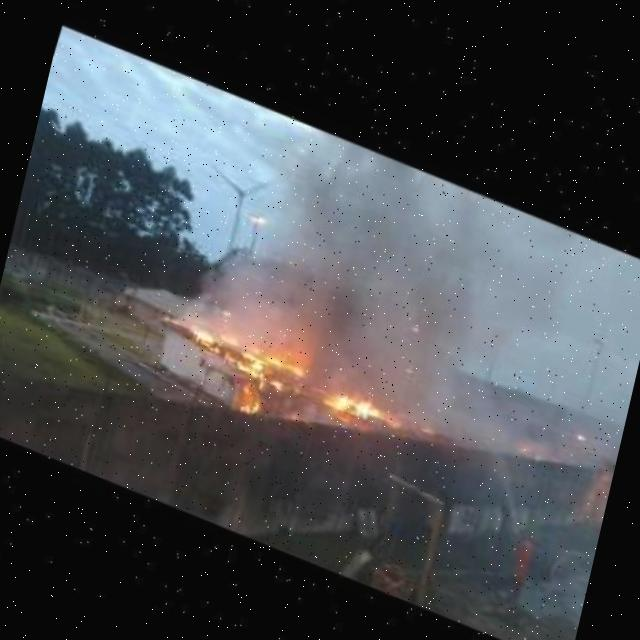fire: (318, 377, 382, 421), (210, 338, 268, 386), (180, 311, 217, 345), (228, 380, 260, 413), (259, 350, 300, 374)
